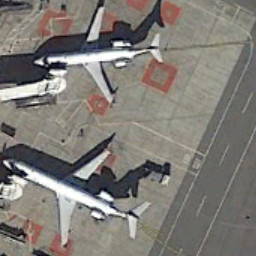Airplane: (2, 133, 153, 254), (25, 2, 167, 109)
